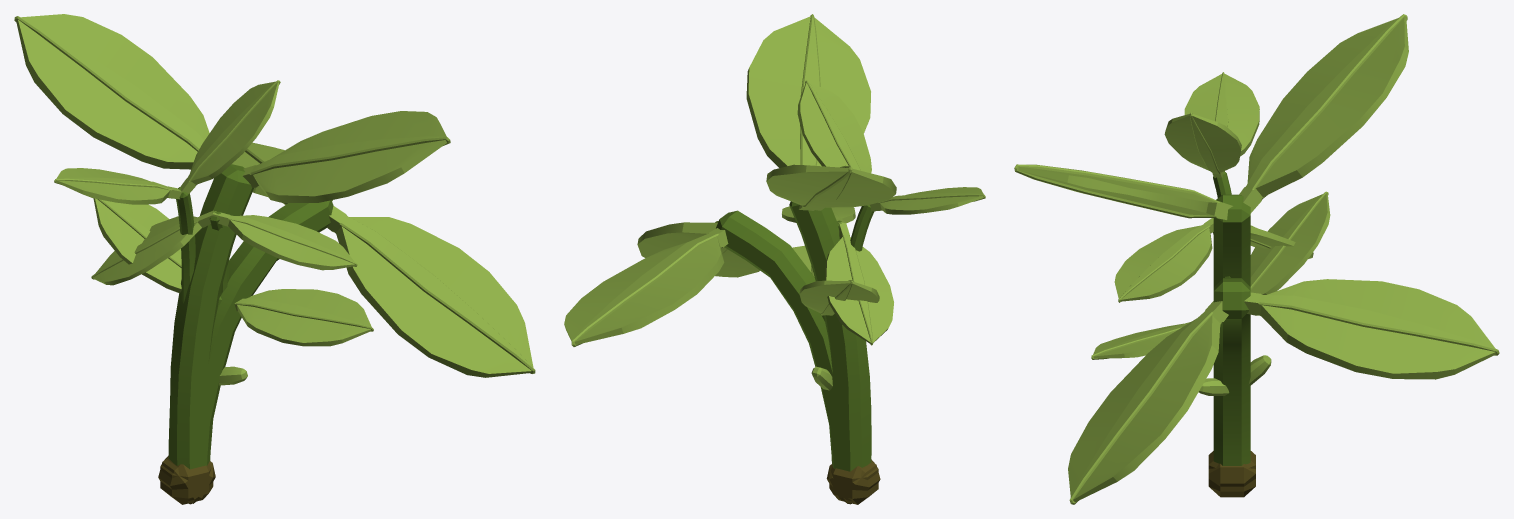
Rendered from SproutModels.fbx.
3 renders of one model, left to right at view 1: azimuth 30°, elevation 25°; view 2: azimuth 150°, elevation 25°; view 3: azimuth 270°, elevation 25°, orthographic. The views are drawn at different scales.
Visible parts, largest first — view 1: SproutFullGrown, SproutDecaying, SproutAdolescent, SproutSeed, SproutBudding; view 2: SproutFullGrown, SproutDecaying, SproutAdolescent, SproutBudding, SproutSeed; view 3: SproutDecaying, SproutFullGrown, SproutAdolescent, SproutBudding, SproutSeed.
Part boxes in pixels (x1,y1,x2,y2): SproutFullGrown: [14, 14, 450, 469]; SproutDecaying: [91, 142, 535, 468]; SproutAdolescent: [93, 198, 373, 346]; SproutSeed: [160, 455, 213, 504]; SproutBudding: [158, 366, 247, 504]; SproutFullGrown: [746, 14, 985, 471]; SproutDecaying: [564, 206, 893, 469]; SproutAdolescent: [792, 245, 879, 321]; SproutBudding: [811, 366, 880, 504]; SproutSeed: [829, 459, 878, 504]; SproutDecaying: [1068, 218, 1499, 504]; SproutFullGrown: [1014, 14, 1408, 286]; SproutAdolescent: [1091, 191, 1330, 359]; SproutBudding: [1198, 355, 1271, 486]; SproutSeed: [1208, 451, 1255, 497].
Size of the model in its own units: 51.69 by 52.43 by 52.47.
1 material, 1 textured.
